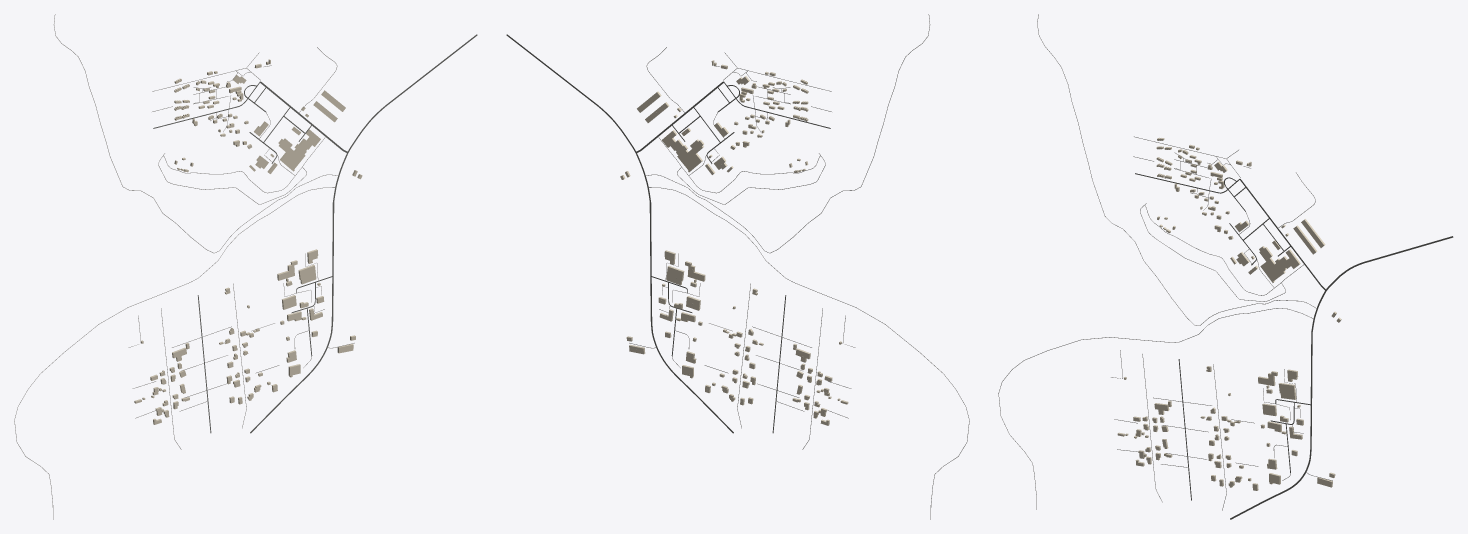
File: historic-palestine-12_25_3544_3199.glb
3 views of the same model, side by side, from view 1: azimuth 30°, elevation 25°; view 2: azimuth 150°, elevation 25°; view 3: azimuth 330°, elevation 25° (orthographic).
Visible parts, largest first — view 1: Road, Building_.055; view 2: Road, Building_.055; view 3: Road, Building_.055.
Boxes of the visible parts, left/top/right/bottom form: Road: left=250, top=34, right=477, bottom=433; Building_.055: left=278, top=129, right=320, bottom=171; Road: left=506, top=34, right=733, bottom=433; Building_.055: left=662, top=130, right=703, bottom=172; Road: left=1230, top=236, right=1453, bottom=519; Building_.055: left=1259, top=246, right=1300, bottom=282.
Bounding box in the file's own units: 1601 × 1669 × 8.7.
